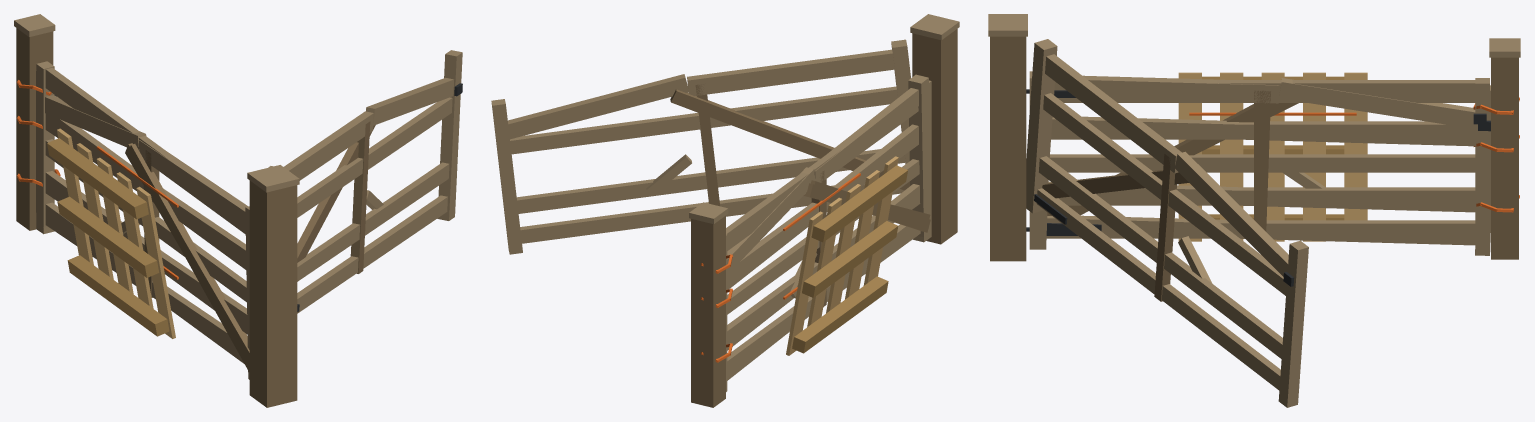
The model's file is lwf_field_gate_oak_v1.glb.
The picture shows the model from 3 angles, left to right: view 1: azimuth 30°, elevation 25°; view 2: azimuth 150°, elevation 25°; view 3: azimuth 270°, elevation 25°; orthographic projection. The views are drawn at different scales.
Visible parts, largest first — view 1: LWF_FieldGate_LeafBroken, LWF_FieldGate_Posts, LWF_FieldGate_LeafIntact, LWF_FieldGate_Repair, LWF_FieldGate_LeafRepaired; view 2: LWF_FieldGate_LeafBroken, LWF_FieldGate_Posts, LWF_FieldGate_Repair, LWF_FieldGate_LeafIntact, LWF_FieldGate_LeafRepaired; view 3: LWF_FieldGate_LeafIntact, LWF_FieldGate_LeafBroken, LWF_FieldGate_LeafRepaired, LWF_FieldGate_Posts, LWF_FieldGate_Repair.
Boxes of the visible parts, x1,y1,x2,y2 form: LWF_FieldGate_LeafBroken: [268, 50, 462, 313]; LWF_FieldGate_Posts: [14, 14, 299, 407]; LWF_FieldGate_LeafIntact: [36, 61, 249, 379]; LWF_FieldGate_Repair: [17, 80, 178, 338]; LWF_FieldGate_LeafRepaired: [36, 70, 249, 373]; LWF_FieldGate_LeafBroken: [491, 39, 910, 254]; LWF_FieldGate_Posts: [689, 14, 959, 407]; LWF_FieldGate_Repair: [701, 156, 907, 362]; LWF_FieldGate_LeafIntact: [726, 80, 931, 385]; LWF_FieldGate_LeafRepaired: [726, 74, 930, 391]; LWF_FieldGate_LeafIntact: [1029, 71, 1489, 249]; LWF_FieldGate_LeafBroken: [1026, 39, 1308, 407]; LWF_FieldGate_LeafRepaired: [1030, 75, 1490, 255]; LWF_FieldGate_Posts: [988, 14, 1520, 261]; LWF_FieldGate_Repair: [1178, 72, 1519, 241].
Bounding box in the file's own units: 2.79 × 1.54 × 3.22.
1 material, 1 textured.
